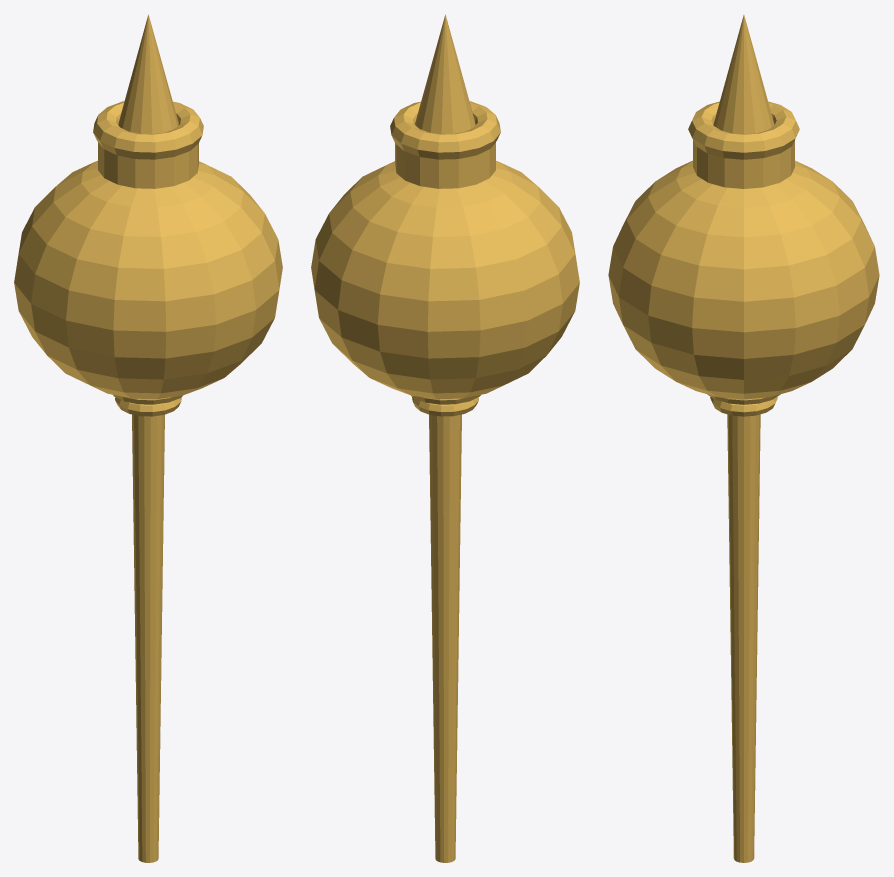
Rendered from Gada.glb.
3 renders of one model, left to right at view 1: azimuth 30°, elevation 25°; view 2: azimuth 150°, elevation 25°; view 3: azimuth 270°, elevation 25°, orthographic.
Parts seen in each view (by area): view 1: Gada_Head, Gada_Handle, Gada_Finial, Gada_TopRing, Gada_TopBase, Gada_Ring1; view 2: Gada_Head, Gada_Handle, Gada_Finial, Gada_TopRing, Gada_TopBase, Gada_Ring1; view 3: Gada_Head, Gada_Handle, Gada_Finial, Gada_TopRing, Gada_TopBase, Gada_Ring1.
Boxes of the visible parts, left/top/right/bottom form: Gada_Head: left=14, top=161, right=282, bottom=399; Gada_Handle: left=132, top=414, right=164, bottom=862; Gada_Finial: left=118, top=14, right=178, bottom=134; Gada_TopRing: left=93, top=101, right=203, bottom=159; Gada_TopBase: left=98, top=142, right=198, bottom=188; Gada_Ring1: left=115, top=397, right=181, bottom=416; Gada_Head: left=311, top=161, right=579, bottom=399; Gada_Handle: left=429, top=414, right=461, bottom=862; Gada_Finial: left=415, top=14, right=475, bottom=134; Gada_TopRing: left=390, top=101, right=500, bottom=159; Gada_TopBase: left=395, top=142, right=495, bottom=188; Gada_Ring1: left=412, top=397, right=478, bottom=416; Gada_Head: left=608, top=160, right=879, bottom=399; Gada_Handle: left=727, top=414, right=760, bottom=862; Gada_Finial: left=713, top=15, right=774, bottom=134; Gada_TopRing: left=688, top=101, right=799, bottom=159; Gada_TopBase: left=693, top=140, right=794, bottom=188; Gada_Ring1: left=710, top=397, right=777, bottom=416.
Bounding box in the file's own units: 1.6 × 5.5 × 1.6.
